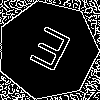E: (22, 25, 74, 81)
